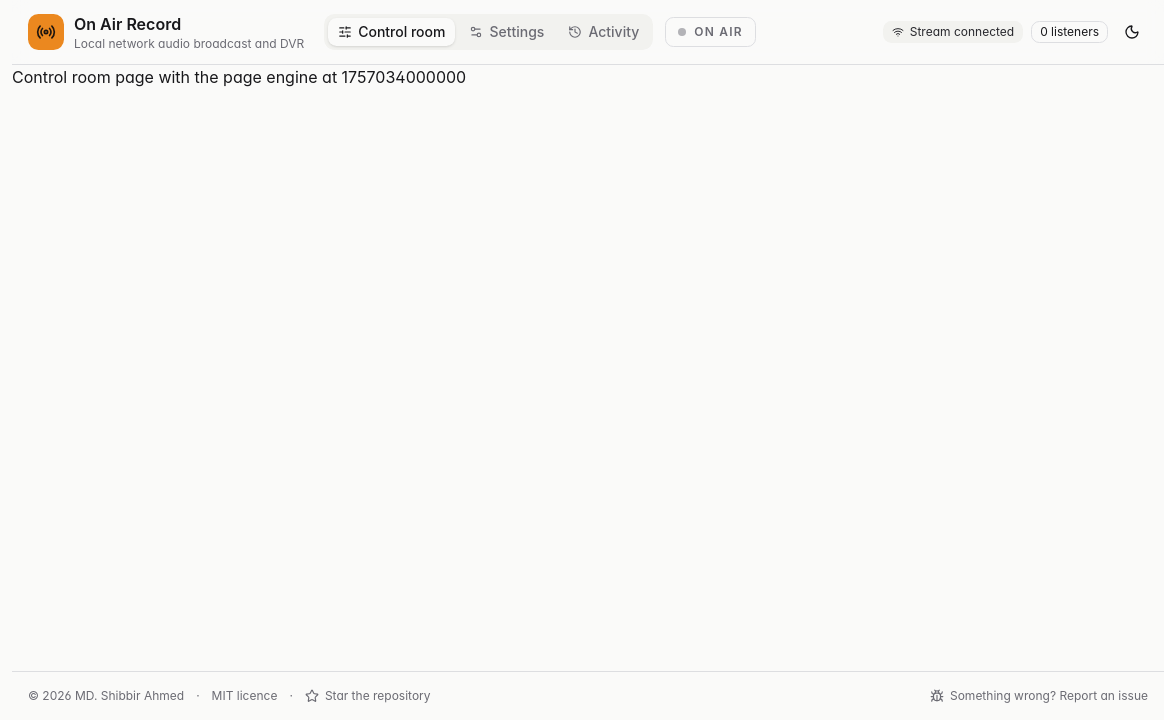
it: the app shell › the page links › moves between pages, and the current mark follows
Click the link "Settings" at (507, 32), box [470, 23, 544, 40]
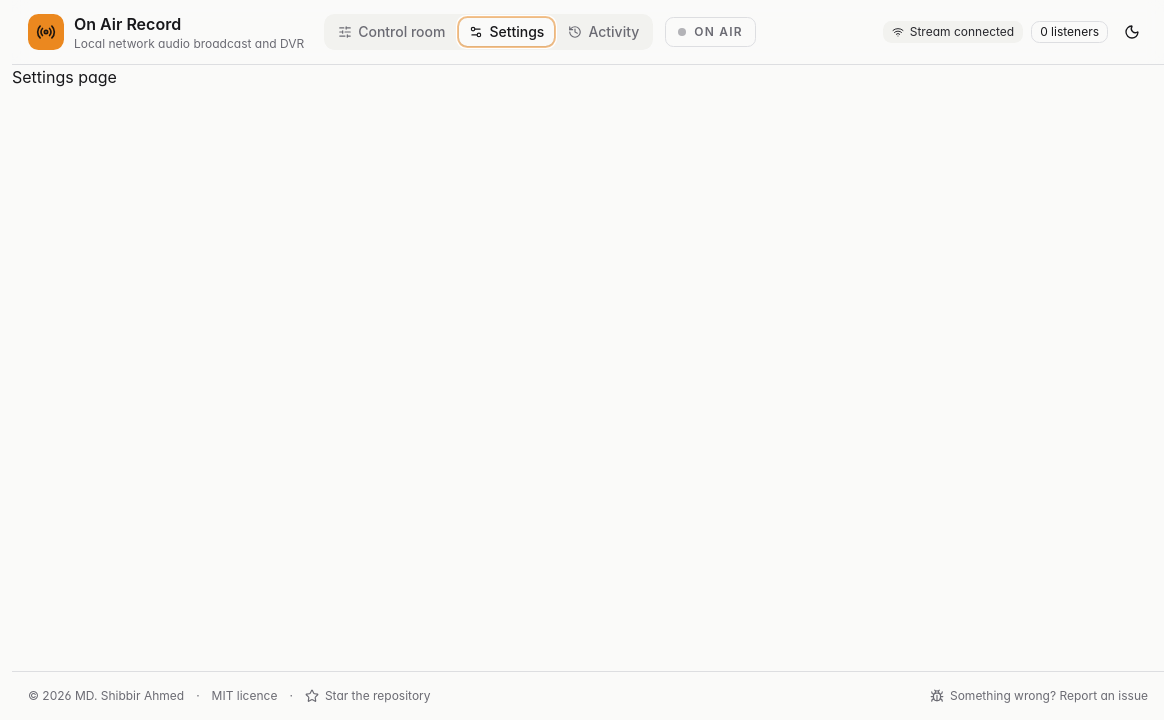
expect the text "Settings page" is shown: met, box [12, 67, 117, 87]
Click the link "Control room" at (392, 32), box [338, 23, 446, 40]
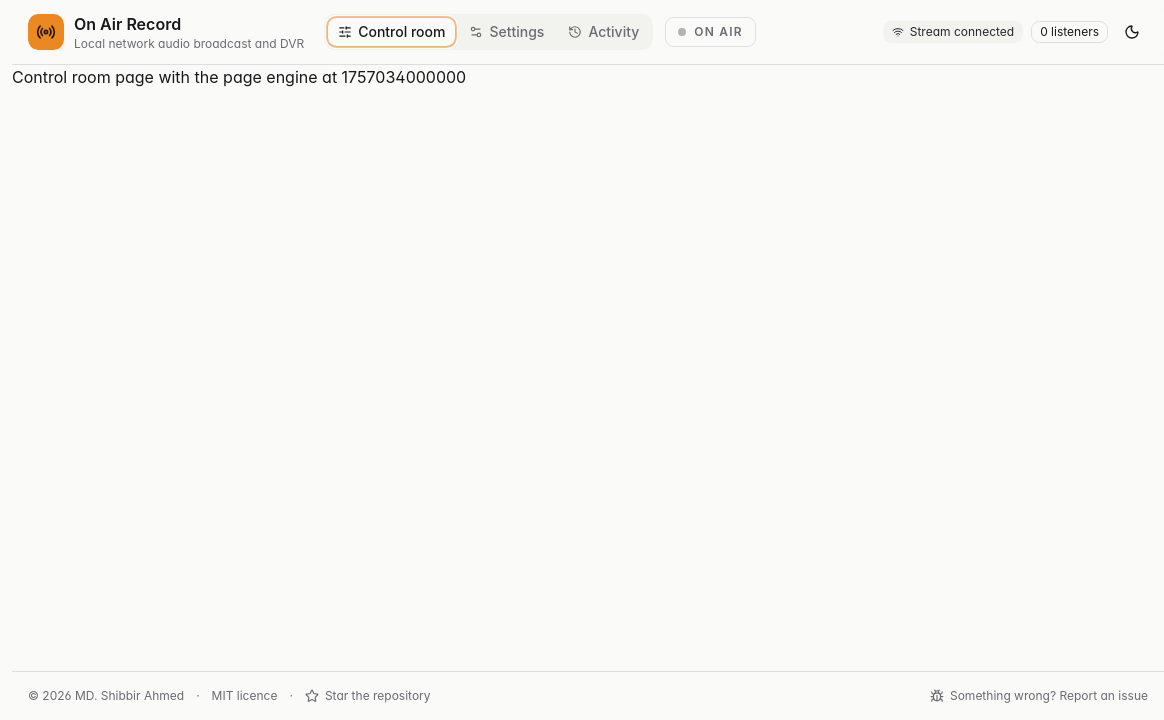
expect the text "Control room page with the page engine at 1757034000000" is shown: met, box [12, 67, 466, 87]
